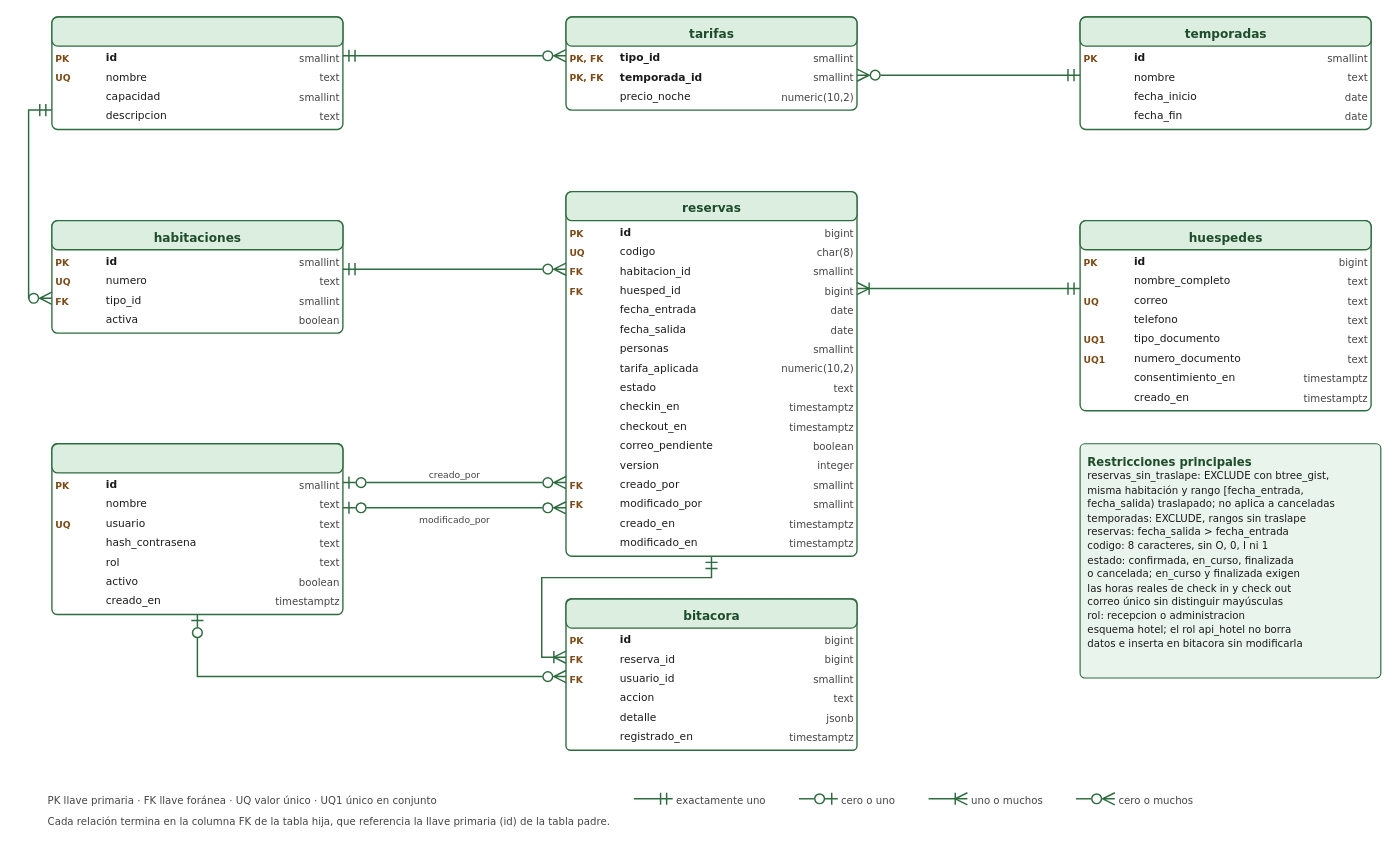
Some shapes in this 1399 by 847 pixel diagram are drawn without their labels. The shapes that lost their labels are listed below. From the top down, each one's centre as x and y in pixels, then its label:
At [197,31]: "tipos_habitacion".
At [197,458]: "usuarios".
